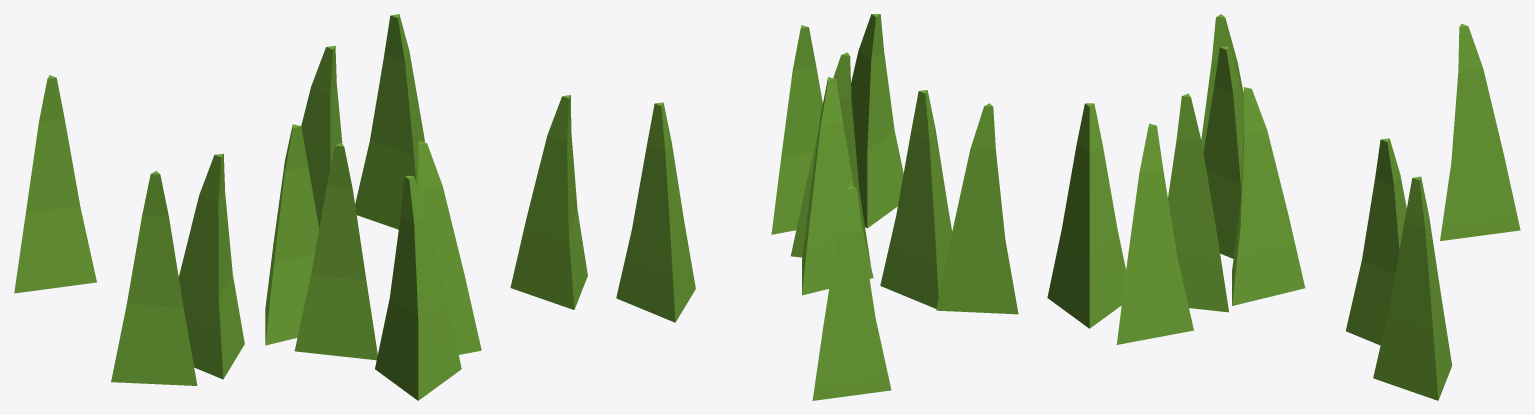
File: grass.glb
The picture shows the model from 3 angles, left to right: view 1: azimuth 30°, elevation 25°; view 2: azimuth 150°, elevation 25°; view 3: azimuth 270°, elevation 25°; orthographic projection. The views are drawn at different scales.
Parts seen in each view (by area): view 1: Cylinder.010, Cylinder.003, Cylinder.008, Cylinder.006, Cylinder.005, Cylinder.004, Cylinder.007, Cylinder.009, Cylinder.002; view 2: Cylinder.002, Cylinder.003, Cylinder.004, Cylinder.006, Cylinder.005, Cylinder.010, Cylinder.007, Cylinder.009, Cylinder.008; view 3: Cylinder.010, Cylinder.004, Cylinder.006, Cylinder.009, Cylinder.007, Cylinder.008, Cylinder.002, Cylinder.005, Cylinder.003.
Part boxes in pixels (left/top/right/bottom): Cylinder.010: left=375, top=176, right=461, bottom=400; Cylinder.003: left=111, top=171, right=197, bottom=385; Cylinder.008: left=294, top=143, right=377, bottom=360; Cylinder.006: left=14, top=75, right=96, bottom=293; Cylinder.005: left=178, top=153, right=244, bottom=379; Cylinder.004: left=355, top=14, right=424, bottom=229; Cylinder.007: left=265, top=124, right=319, bottom=345; Cylinder.009: left=418, top=141, right=481, bottom=354; Cylinder.002: left=273, top=45, right=342, bottom=245; Cylinder.002: left=616, top=102, right=695, bottom=322; Cylinder.003: left=936, top=103, right=1018, bottom=314; Cylinder.004: left=510, top=95, right=587, bottom=309; Cylinder.006: left=812, top=185, right=891, bottom=400; Cylinder.005: left=880, top=90, right=952, bottom=308; Cylinder.010: left=851, top=14, right=903, bottom=228; Cylinder.007: left=802, top=77, right=873, bottom=295; Cylinder.009: left=771, top=25, right=822, bottom=234; Cylinder.008: left=791, top=52, right=870, bottom=264; Cylinder.010: left=1047, top=103, right=1125, bottom=328; Cylinder.004: left=1373, top=176, right=1452, bottom=400; Cylinder.006: left=1440, top=23, right=1520, bottom=240; Cylinder.009: left=1116, top=123, right=1193, bottom=344; Cylinder.007: left=1232, top=87, right=1305, bottom=305; Cylinder.008: left=1168, top=93, right=1228, bottom=312; Cylinder.002: left=1346, top=138, right=1406, bottom=345; Cylinder.005: left=1203, top=46, right=1244, bottom=258; Cylinder.003: left=1201, top=14, right=1243, bottom=151.
Size of the model in its own units: 2.23 by 1.02 by 2.2.
